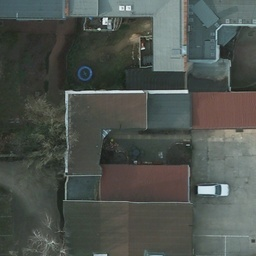car: (194, 181, 229, 197)
